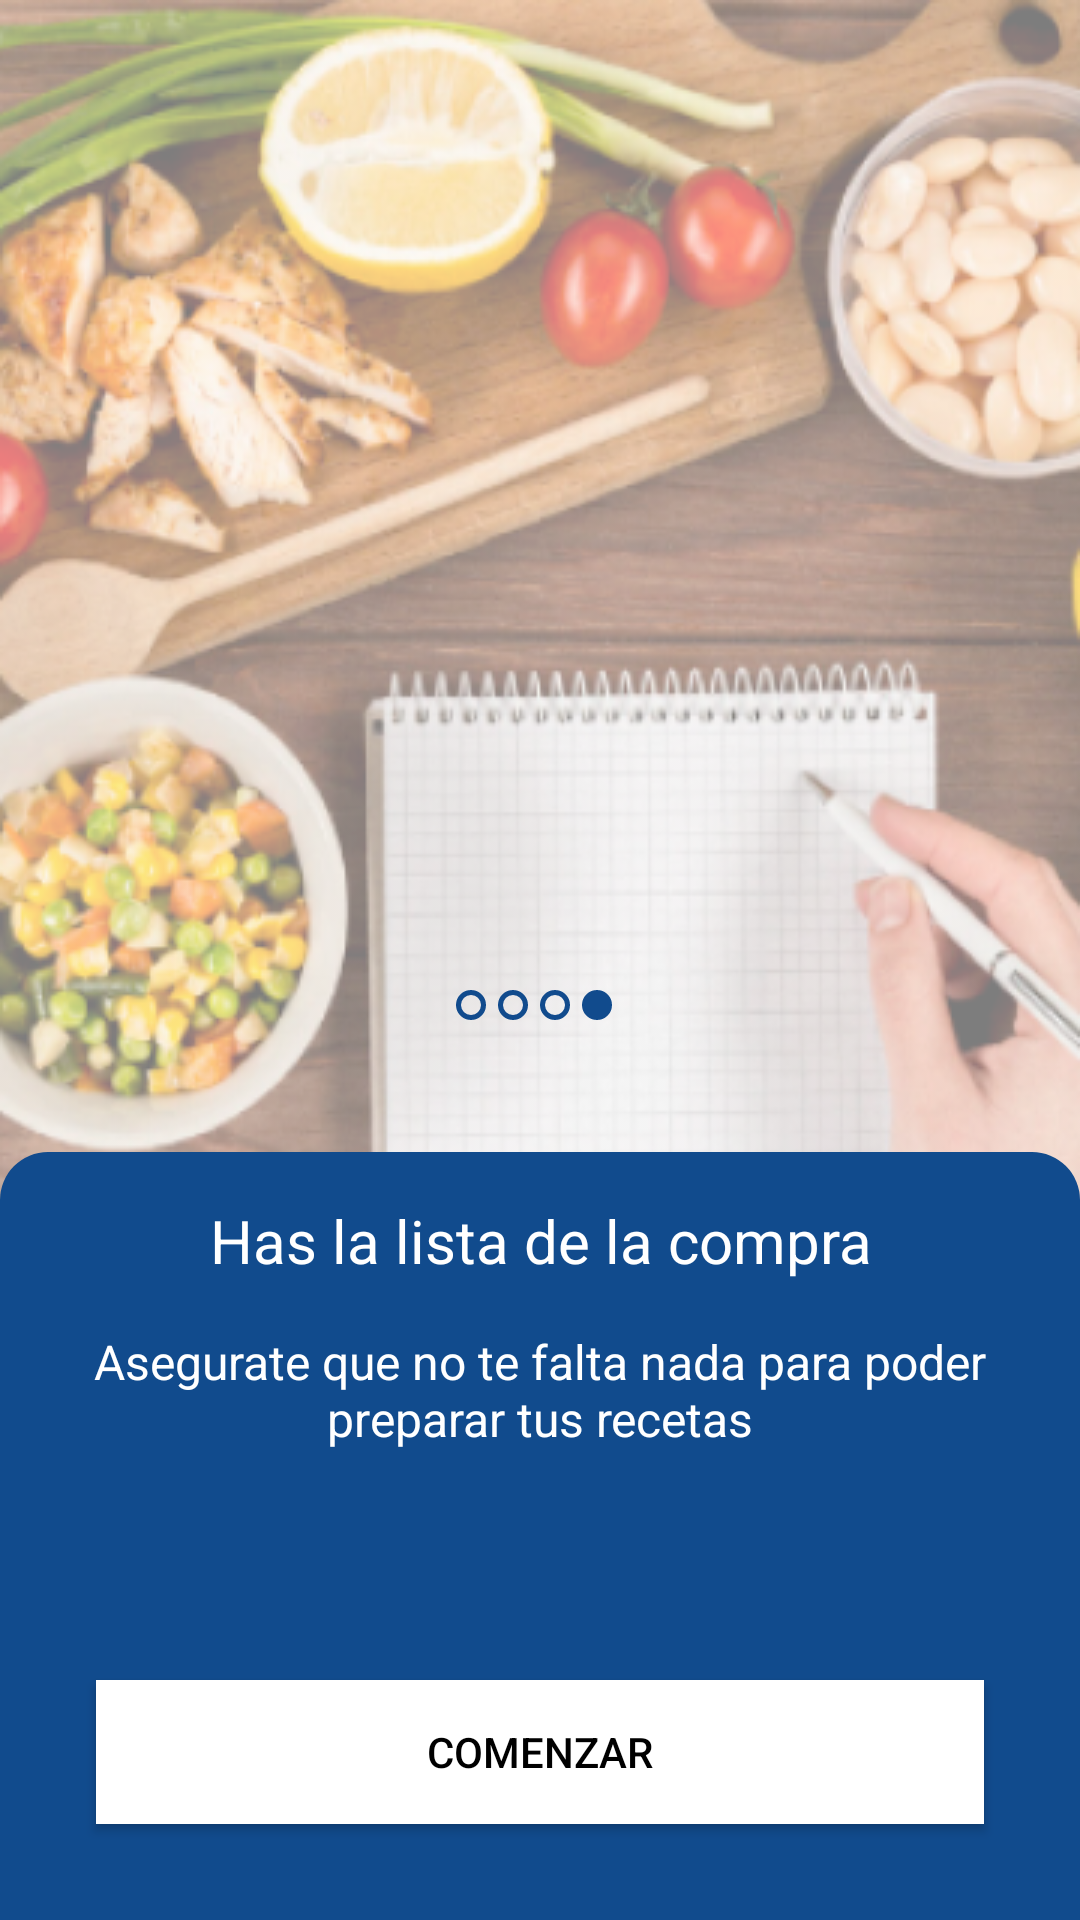

Where to tap for icons on this 1080px x 1920px app screen, as (x=x, y=y):
dot: (x=471, y=1005), (x=513, y=1005), (x=555, y=1005), (x=597, y=1005)
